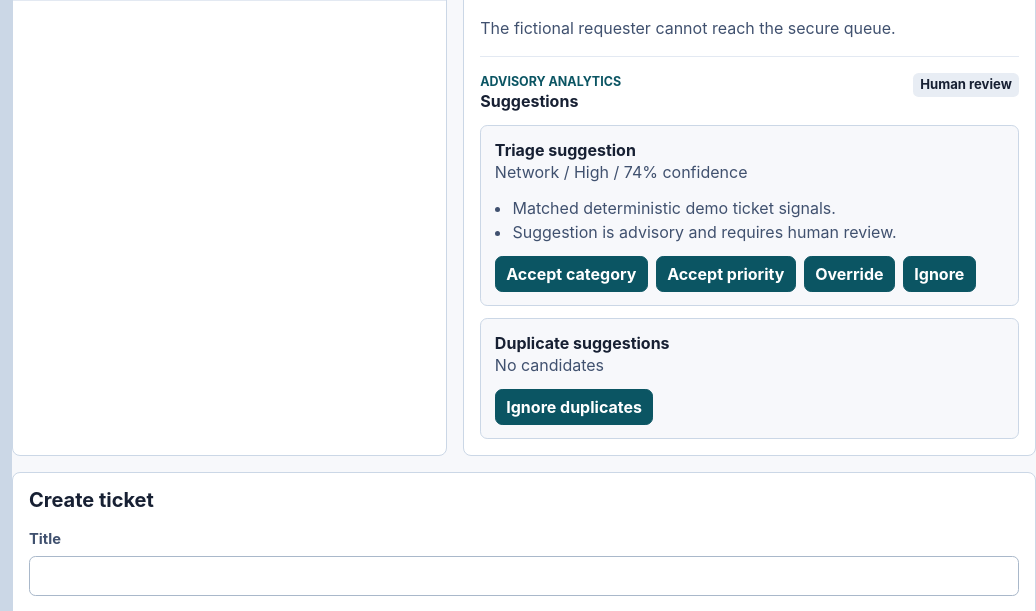
Test: Ticket workspace › stages accepted triage suggestions in the edit form and records review
(page scrolled)
Expected: the element "Triage suggestion" is shown, [480,125,1019,306]
Click the button "Accept category" at (571,274), box [495,256,648,292]
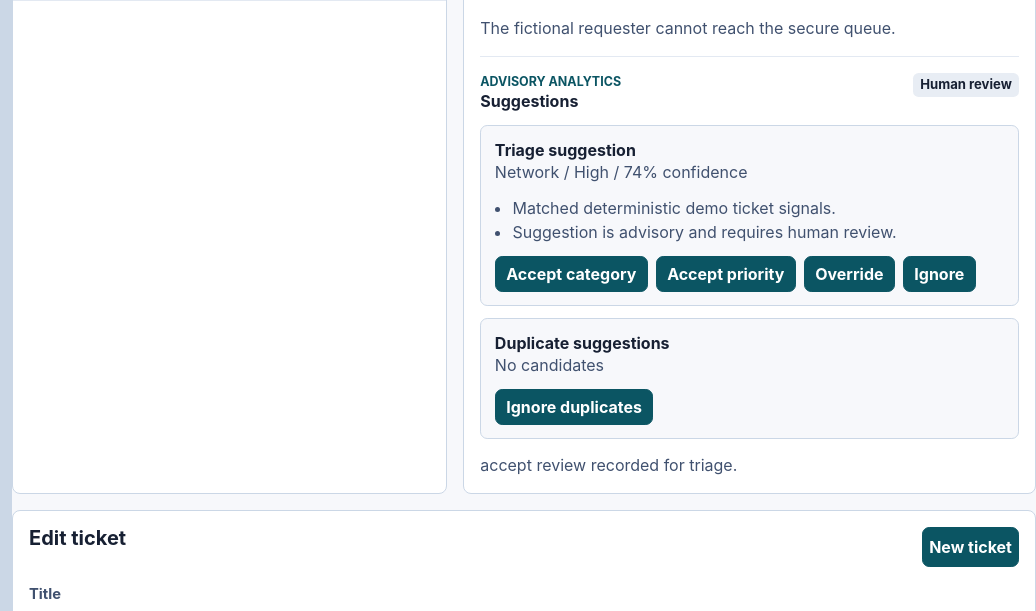
Expected: the text "accept review recorded for triage." is shown, [480,455,737,475]
